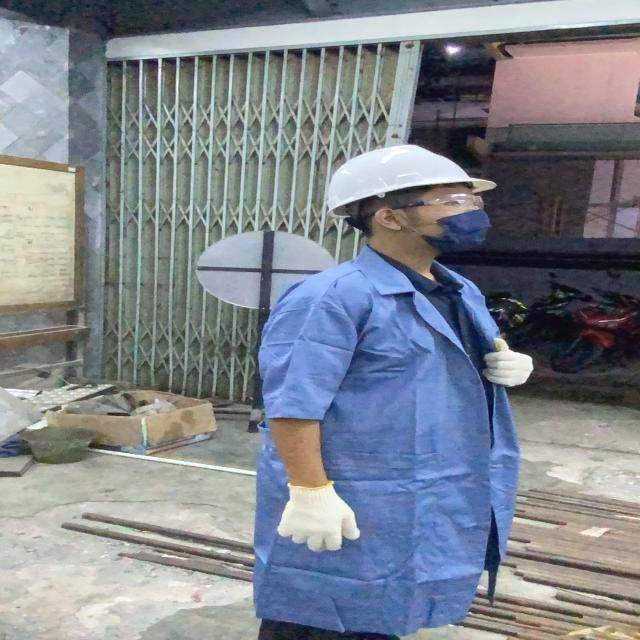face_mask: (401, 184, 493, 253)
glasses: (396, 192, 492, 213)
hand_glove: (270, 477, 376, 555), (477, 340, 541, 387)
head_helmet: (315, 138, 501, 209)
person: (242, 131, 569, 640)
